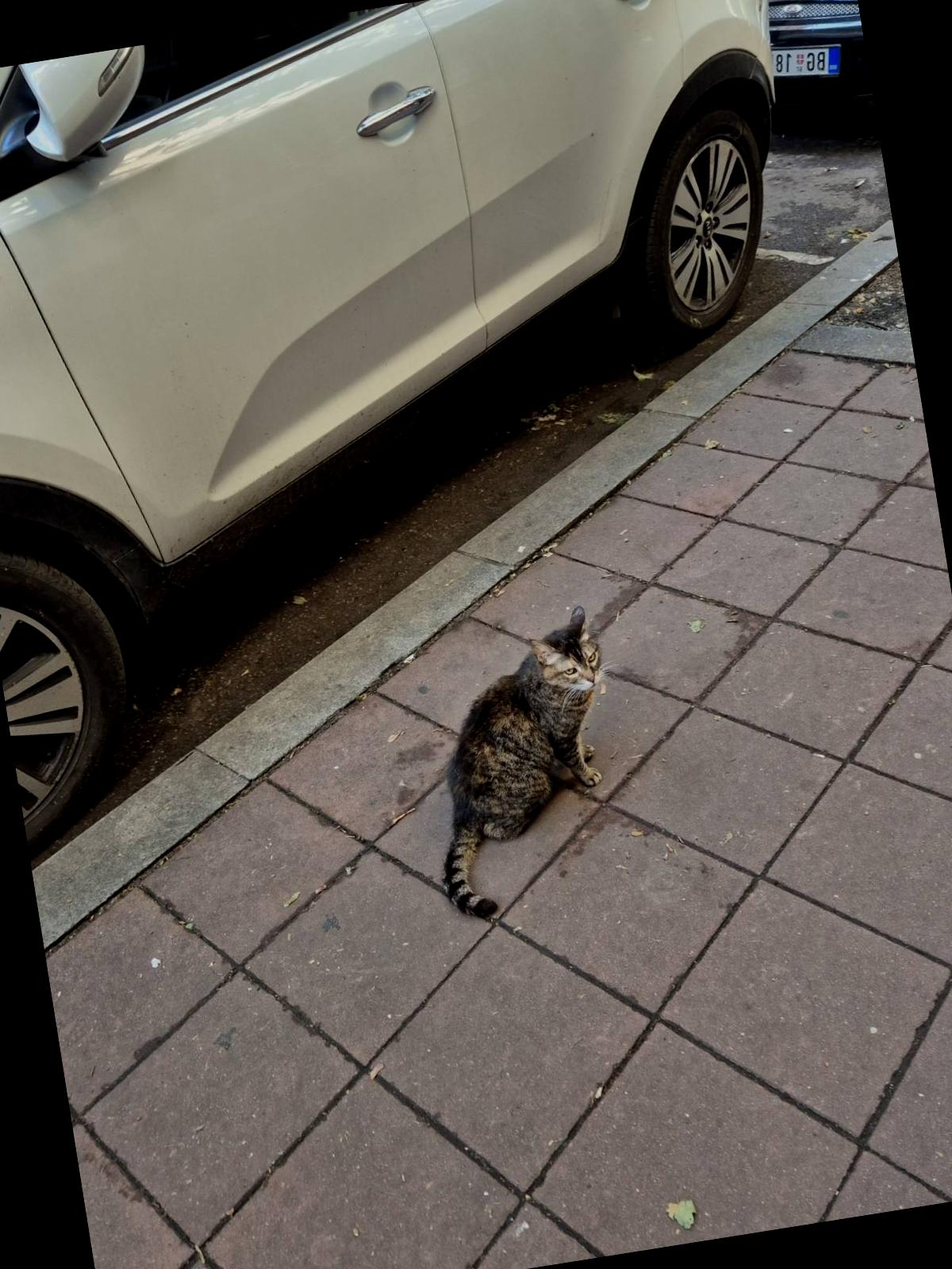macka: (403, 604, 637, 924)
